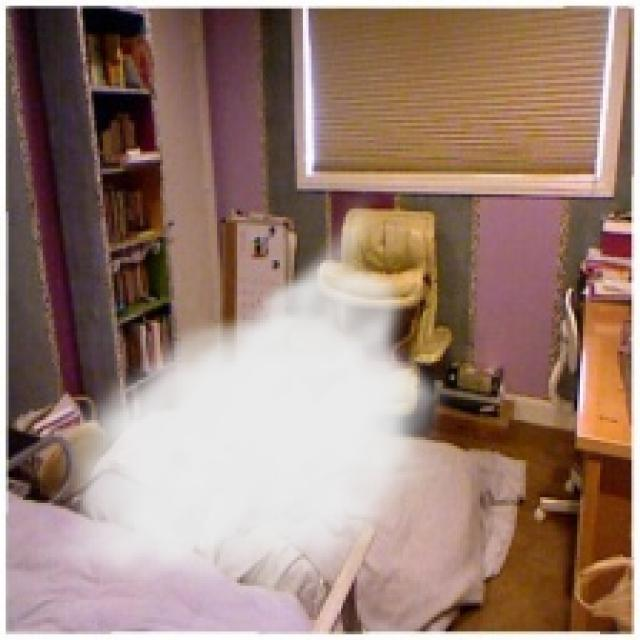Smoke: (34, 186, 457, 608)
